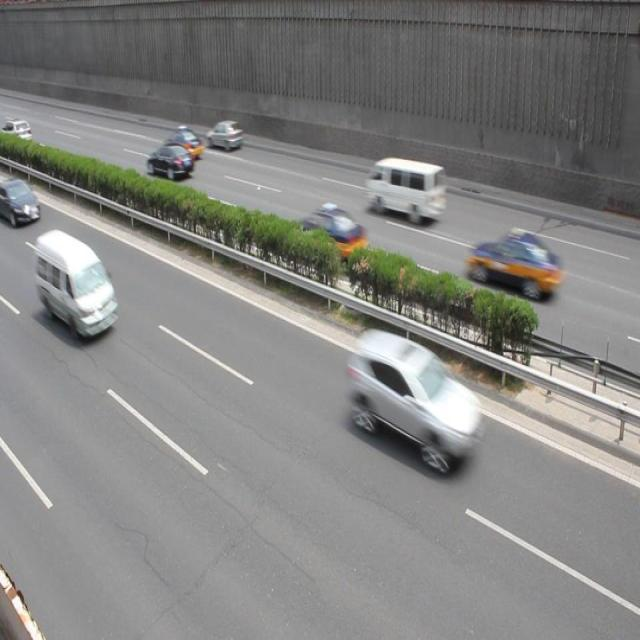car: (346, 328, 484, 473), (464, 234, 563, 299), (294, 207, 369, 264), (0, 177, 40, 227), (147, 144, 193, 182), (163, 126, 203, 163), (206, 118, 242, 150)
truck: (35, 228, 119, 342), (365, 157, 446, 225)
